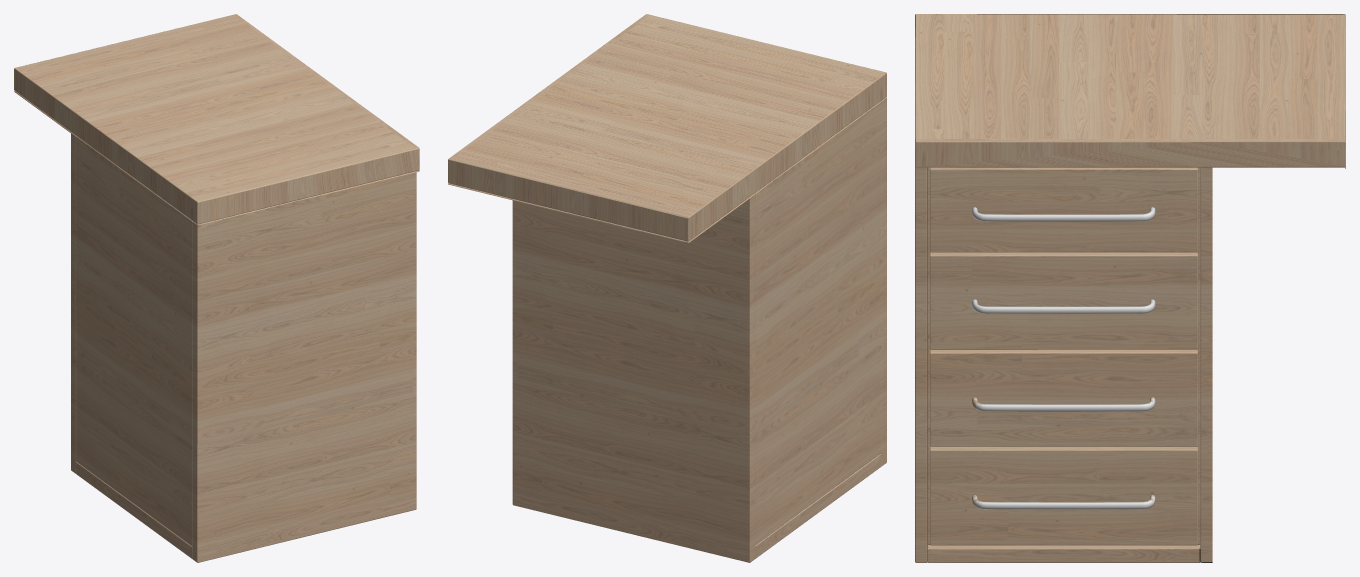
Rendered from drawers.fbx.
The picture shows the model from 3 angles, left to right: view 1: azimuth 30°, elevation 25°; view 2: azimuth 150°, elevation 25°; view 3: azimuth 270°, elevation 25°; orthographic projection. The views are drawn at different scales.
Visible parts, largest first — view 1: Office drawers darl wood; view 2: Office drawers darl wood; view 3: Office drawers darl wood.
Part boxes in pixels (box(x1,y1,x2,y2)): Office drawers darl wood: box(14, 14, 419, 562); Office drawers darl wood: box(448, 14, 886, 562); Office drawers darl wood: box(915, 14, 1345, 562).
Size of the model in its own units: 0.778 by 1.14 by 1.05.
